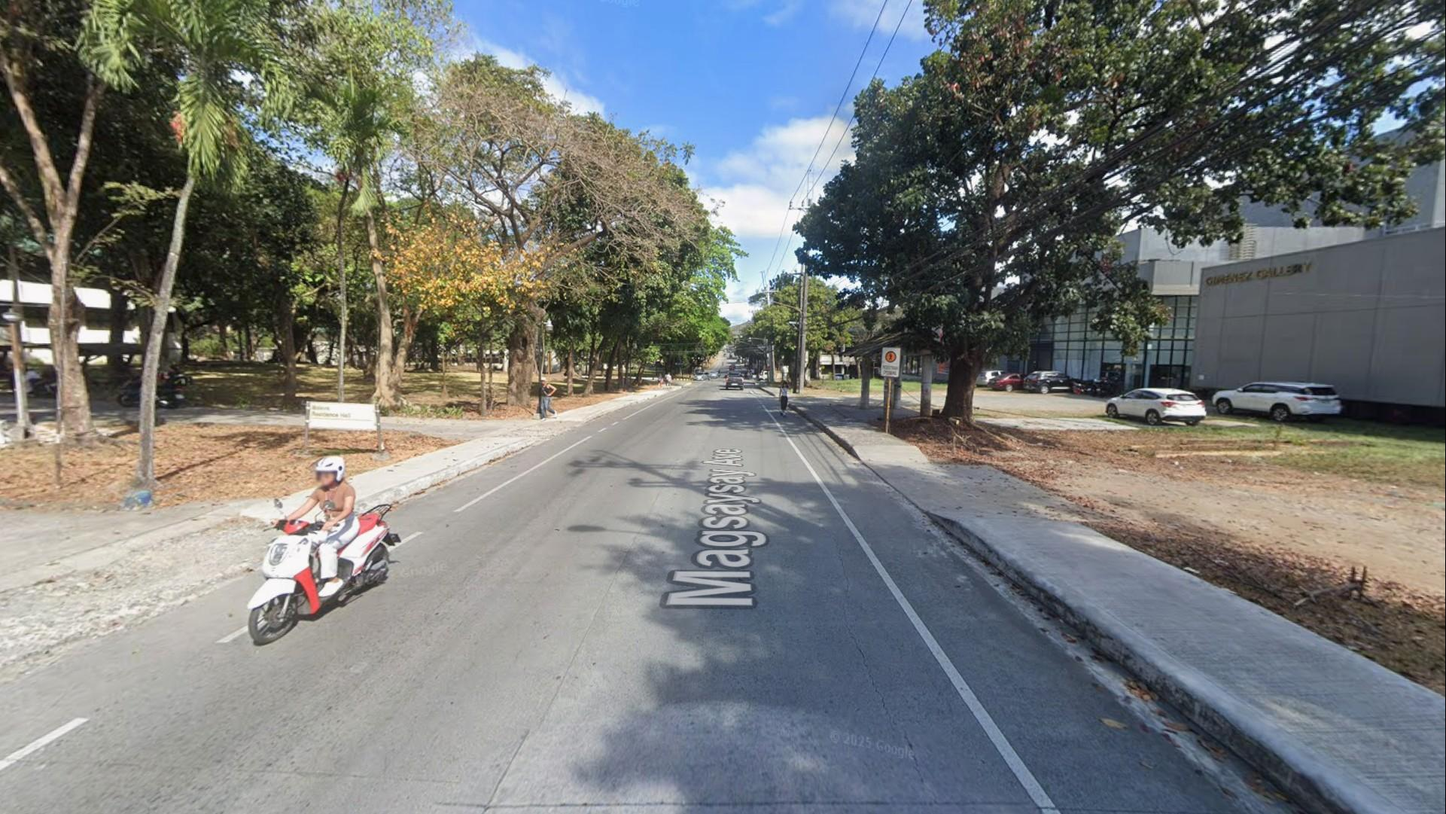pedestrian: (538, 376, 558, 422), (778, 381, 789, 418), (664, 371, 672, 389), (656, 372, 663, 390)
